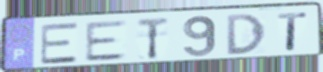9: (181, 15, 218, 59)
D: (225, 12, 268, 57)
E: (83, 19, 129, 63), (39, 21, 81, 66)
T: (135, 16, 171, 61), (276, 11, 310, 52)
